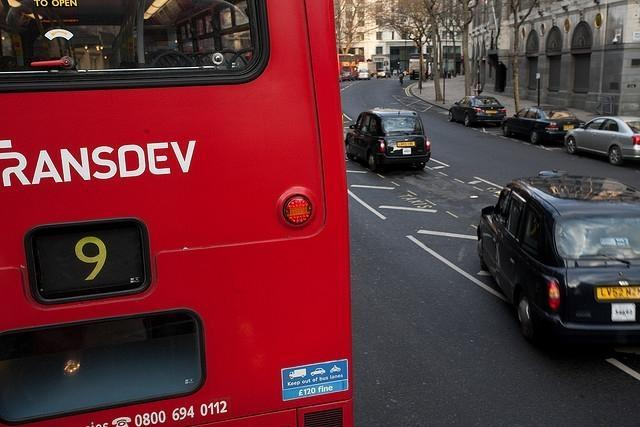bus: (2, 1, 352, 421)
car: (475, 170, 640, 359), (348, 109, 432, 174), (563, 113, 640, 169), (500, 104, 582, 145), (449, 96, 504, 124), (339, 71, 357, 82), (358, 68, 372, 80), (377, 68, 386, 79)
